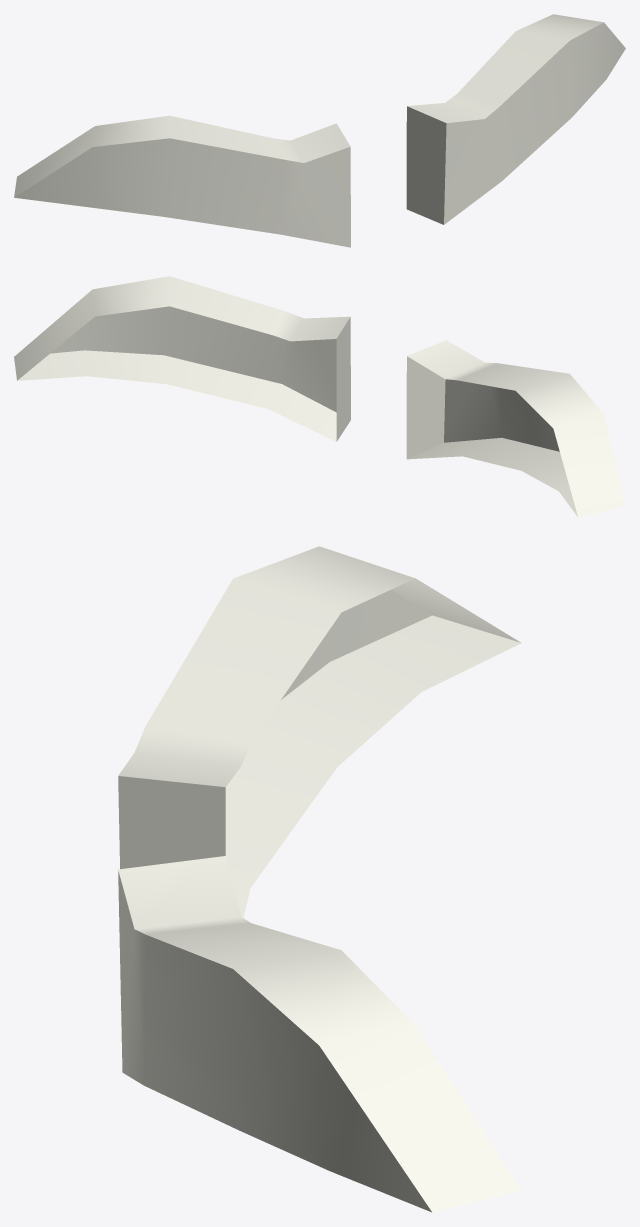
The model's file is Brow_White_5.fbx.
3 renders of one model, top to bottom at view 1: azimuth 30°, elevation 25°; view 2: azimuth 150°, elevation 25°; view 3: azimuth 270°, elevation 25°, orthographic. The views are drawn at different scales.
Visible parts, largest first — view 1: Brow_White_5; view 2: Brow_White_5; view 3: Brow_White_5.
Boxes of the visible parts, x1,y1,x2,y2 form: Brow_White_5: (14,14,625,247); Brow_White_5: (14,276,625,517); Brow_White_5: (118,546,521,1212).
Size of the model in its own units: 41.99 by 8.34 by 11.99.
